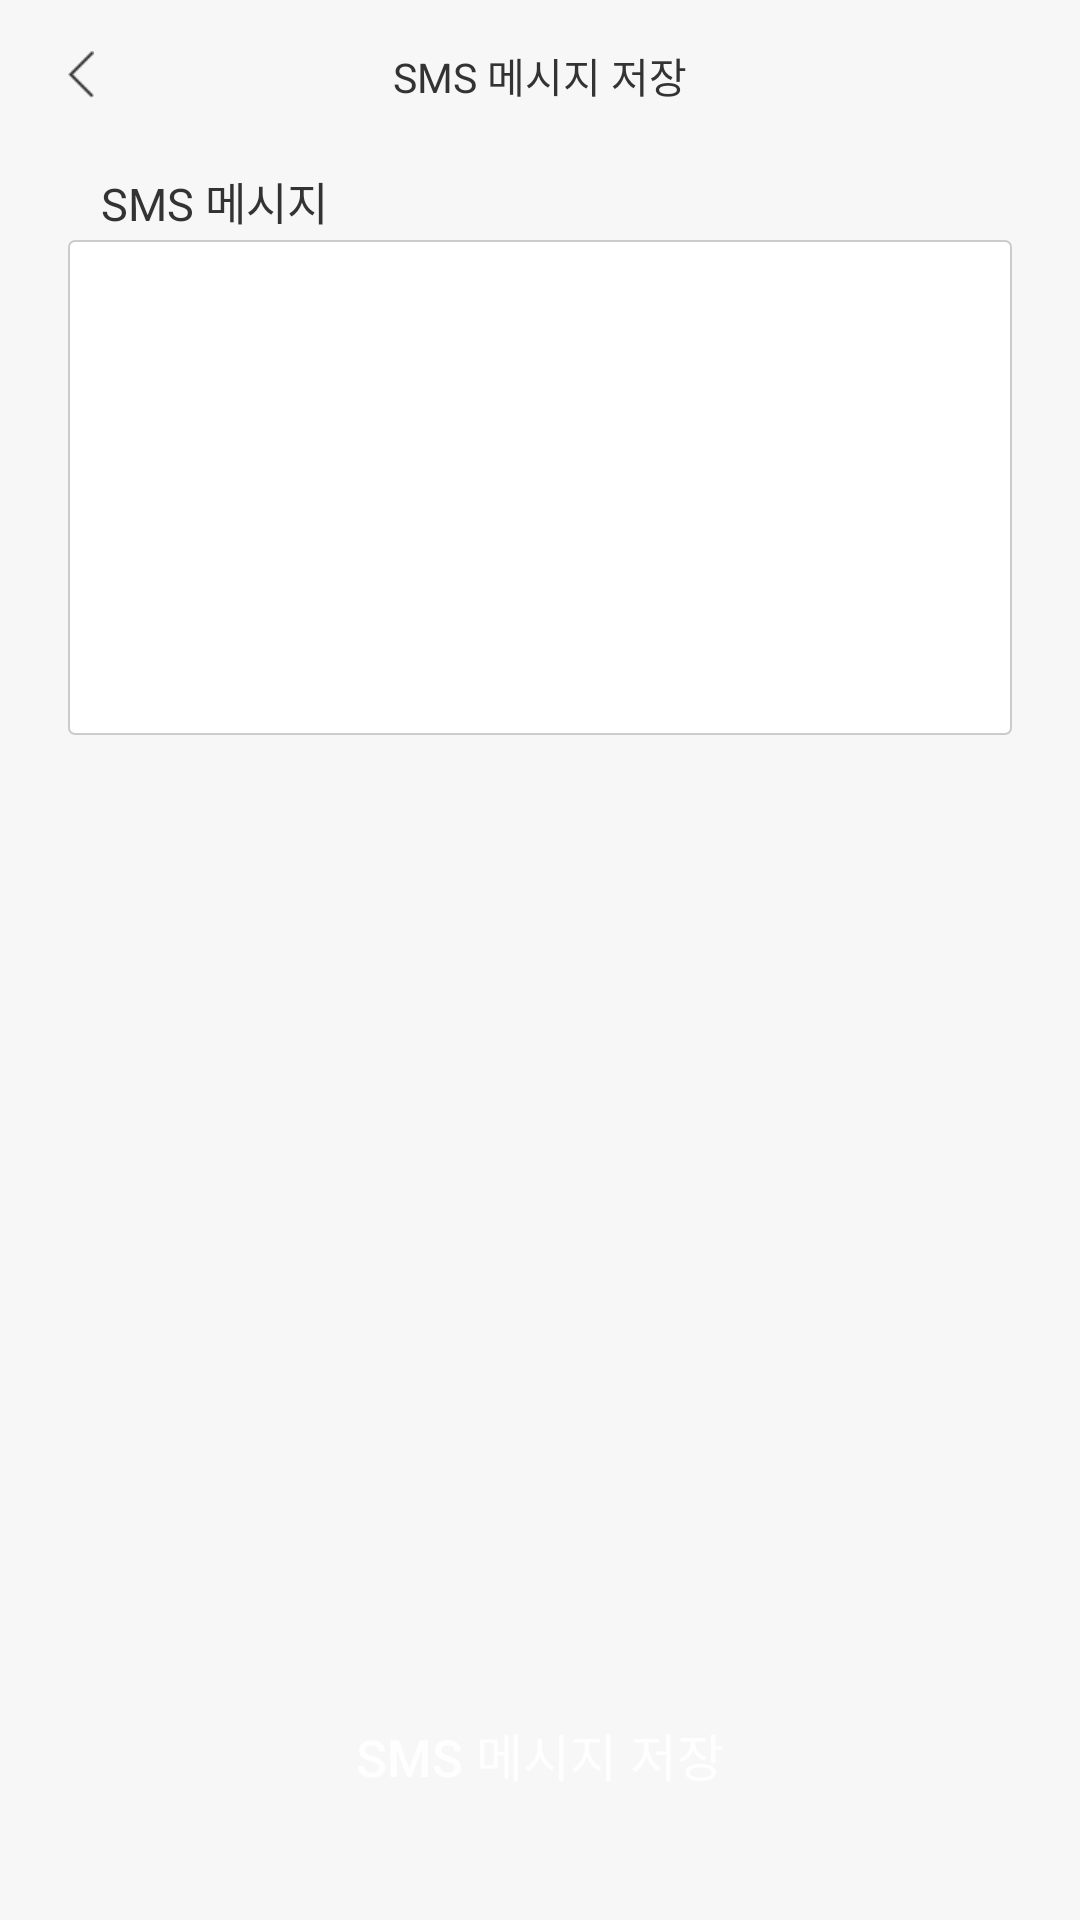

Icons on this 1080 x 1920 Android screen, each with its box as (x1, y1, x2, y2):
arrow left: (68, 51, 94, 98)
